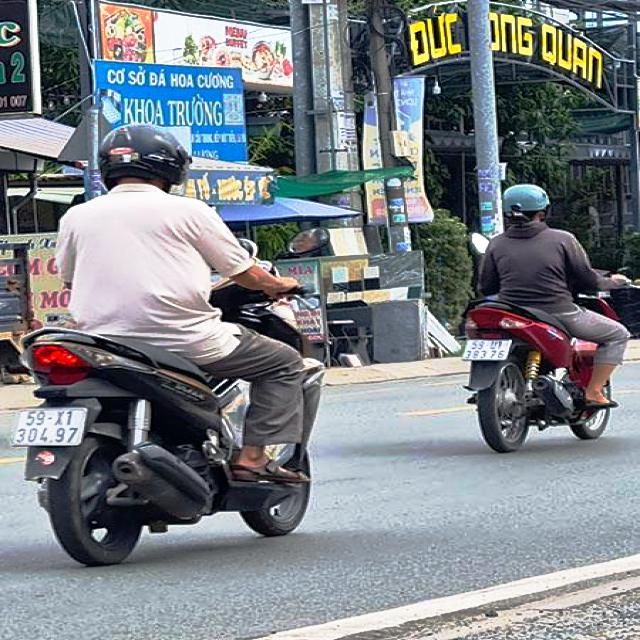license_plate: (13, 408, 87, 448), (463, 341, 512, 361)
